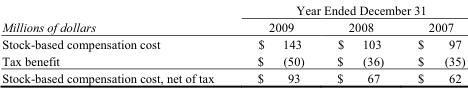table: (1, 1, 464, 85)
table column: (1, 1, 235, 85), (235, 1, 319, 85), (319, 1, 400, 85), (400, 1, 464, 85)
table column header: (1, 1, 464, 35)
table row: (1, 1, 464, 18), (1, 18, 464, 35), (1, 51, 464, 68), (1, 68, 464, 85), (1, 35, 464, 51)
table spanning cell: (1, 1, 235, 35), (235, 1, 464, 18)
